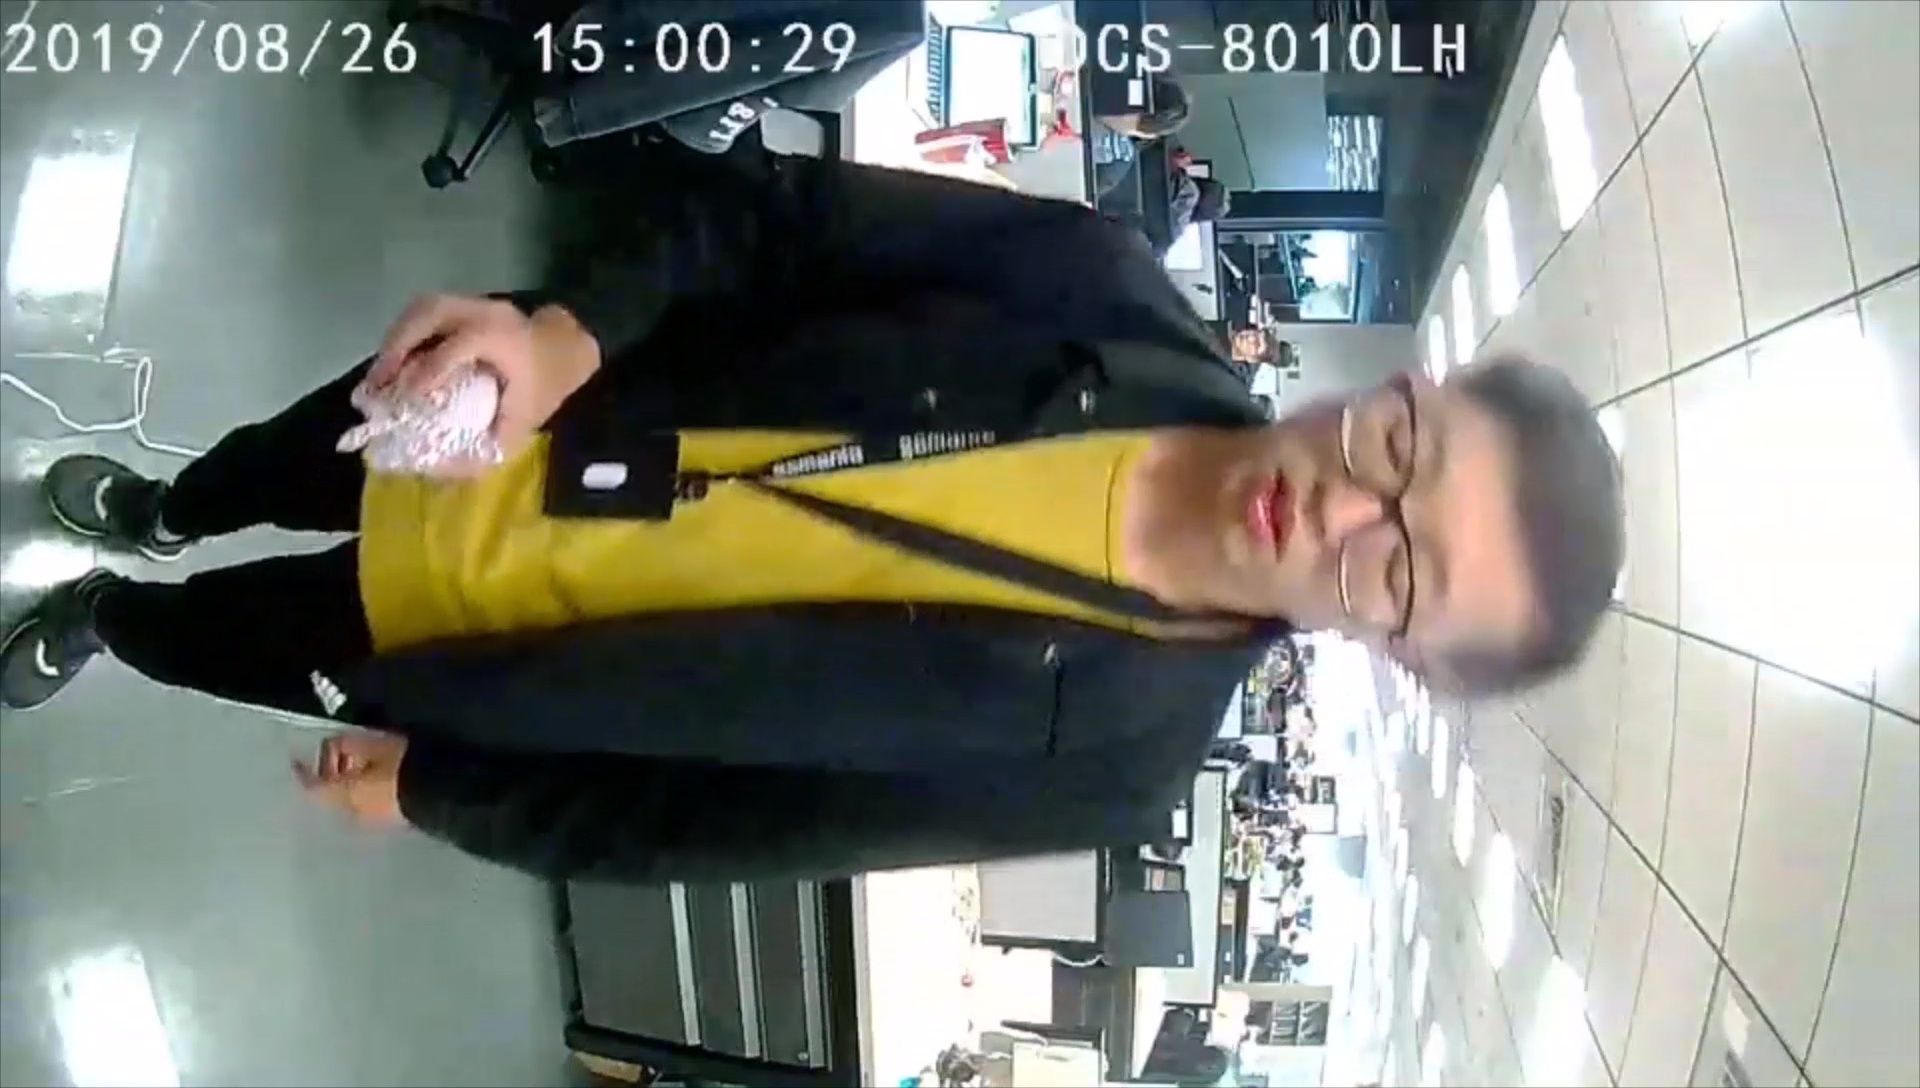pig: (336, 351, 505, 475)
